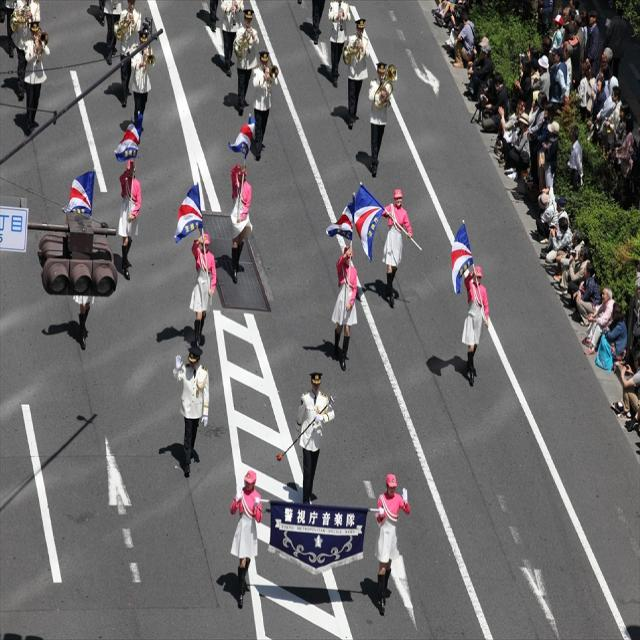body: (517, 0, 633, 90), (296, 370, 336, 506), (374, 471, 411, 617), (172, 345, 210, 477), (228, 469, 263, 611), (378, 186, 412, 307), (460, 265, 490, 388), (189, 229, 218, 348), (330, 244, 357, 371), (22, 19, 52, 133), (342, 16, 371, 131), (112, 0, 142, 110), (252, 49, 280, 163), (9, 0, 40, 101), (117, 160, 142, 282), (368, 59, 393, 180), (233, 6, 260, 116), (128, 24, 154, 134), (229, 162, 252, 284), (579, 285, 616, 357), (529, 99, 555, 199), (524, 90, 550, 190), (594, 300, 628, 371), (540, 194, 570, 270), (326, 0, 351, 88), (610, 349, 640, 422), (553, 230, 586, 293), (572, 261, 602, 327), (219, 0, 244, 77), (478, 72, 511, 130), (462, 43, 494, 102), (432, 0, 468, 52), (614, 116, 634, 209), (506, 110, 531, 181), (549, 216, 574, 283), (541, 120, 561, 202), (610, 103, 632, 177), (596, 74, 621, 138), (567, 245, 594, 304), (549, 46, 568, 125), (562, 21, 582, 95), (102, 0, 124, 67), (451, 10, 475, 68), (72, 294, 96, 351), (576, 60, 596, 126), (297, 0, 326, 45), (536, 191, 560, 245), (584, 9, 602, 81), (567, 124, 584, 194), (590, 76, 606, 148), (513, 57, 532, 116), (0, 0, 17, 57), (531, 54, 551, 102), (604, 84, 623, 134), (572, 14, 586, 80), (561, 42, 574, 88), (598, 46, 614, 82), (550, 13, 564, 52), (471, 35, 490, 58), (209, 0, 219, 33), (98, 0, 106, 25)
